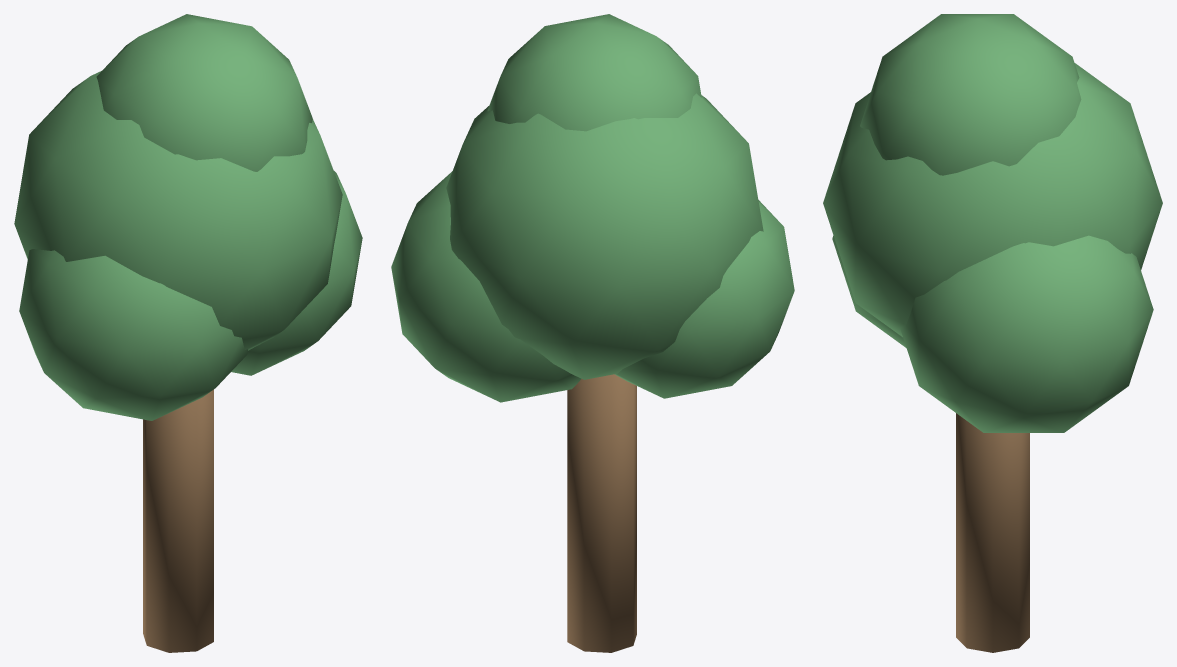
Rendered from tree.glb.
3 renders of one model, left to right at view 1: azimuth 30°, elevation 25°; view 2: azimuth 150°, elevation 25°; view 3: azimuth 270°, elevation 25°, orthographic. The views are drawn at different scales.
Visible parts, largest first — view 1: Tree; view 2: Tree; view 3: Tree.
Boxes of the visible parts, x1,y1,x2,y2 form: Tree: [14, 14, 362, 652]; Tree: [391, 14, 794, 652]; Tree: [823, 14, 1162, 652].
Bounding box in the file's own units: 1.28 × 2.23 × 1.1.
